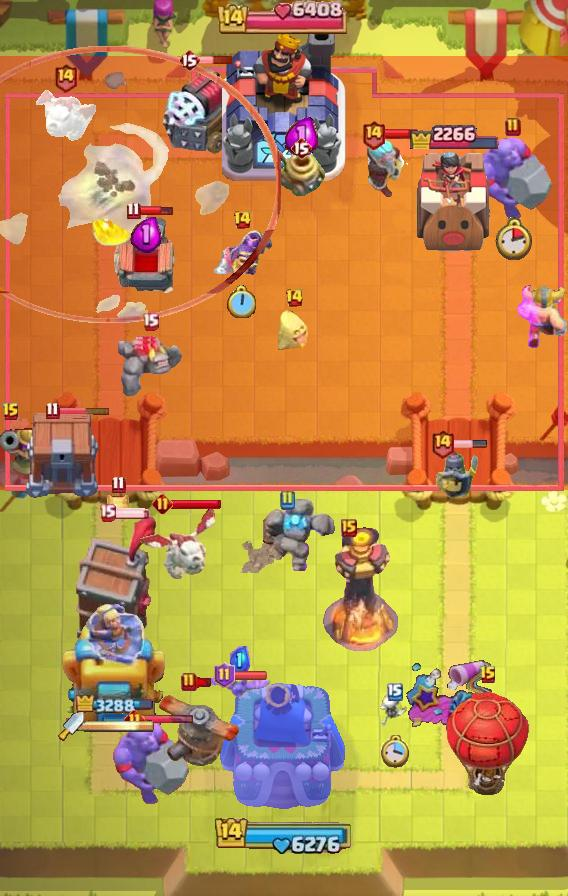archer-queen: (472, 134, 554, 222), (109, 719, 191, 807)
bar: (59, 595, 169, 731)
barbarian: (205, 675, 275, 701)
bat-evolution: (276, 310, 312, 352)
bomb: (23, 413, 101, 499)
bomb-tower: (0, 423, 42, 491)
cannon-cart: (445, 690, 531, 798)
clock: (214, 815, 354, 855), (217, 0, 351, 34)
dark-prince: (156, 681, 246, 771)
dart-goblin: (74, 515, 158, 653)
electro-dragon: (321, 525, 399, 651)
electro-spirit: (285, 117, 319, 156), (130, 215, 161, 253), (230, 646, 250, 673)
elixir: (496, 217, 533, 259), (226, 285, 257, 321), (382, 735, 410, 769)
elixir-golem-mid: (111, 216, 181, 302)
emote: (170, 498, 222, 510), (142, 714, 194, 725), (138, 203, 174, 217), (57, 405, 111, 414), (113, 507, 151, 519), (383, 128, 419, 140), (232, 670, 268, 681), (452, 439, 488, 449), (199, 55, 234, 65), (195, 677, 213, 688)
firecracker-evolution: (211, 231, 273, 277)
fisherman: (240, 525, 302, 573)
goblin-drill: (277, 148, 325, 196)
goblin-giant: (516, 283, 567, 349)
golem: (159, 65, 245, 155)
heal-spirit: (379, 692, 411, 726)
ice-spirit-evolution: (104, 490, 132, 522)
king-tower: (219, 678, 349, 826), (222, 31, 346, 181)
king-tower-bar: (84, 719, 154, 733)
mini-pekka: (137, 507, 217, 581), (32, 87, 98, 143)
mortar: (361, 133, 413, 197)
princess: (434, 445, 480, 501)
queen-tower: (410, 144, 496, 255)
royal-ghost: (0, 45, 280, 322)
selected: (407, 119, 499, 150), (75, 695, 152, 716)
text: (53, 63, 78, 94), (362, 119, 387, 150), (430, 429, 454, 460), (213, 662, 234, 688), (178, 48, 200, 72), (290, 136, 312, 160), (151, 493, 172, 515), (123, 709, 144, 730), (232, 210, 251, 230), (285, 288, 304, 308), (2, 402, 20, 422), (479, 665, 497, 685), (99, 503, 117, 522), (505, 117, 521, 137), (279, 490, 295, 510), (181, 672, 197, 692), (142, 313, 159, 331), (341, 519, 357, 537), (387, 683, 403, 701), (44, 400, 59, 419), (110, 475, 125, 494), (126, 201, 141, 219)
valkyrie: (87, 193, 139, 249)
valkyrie-evolution: (263, 499, 339, 577), (117, 335, 183, 397)
